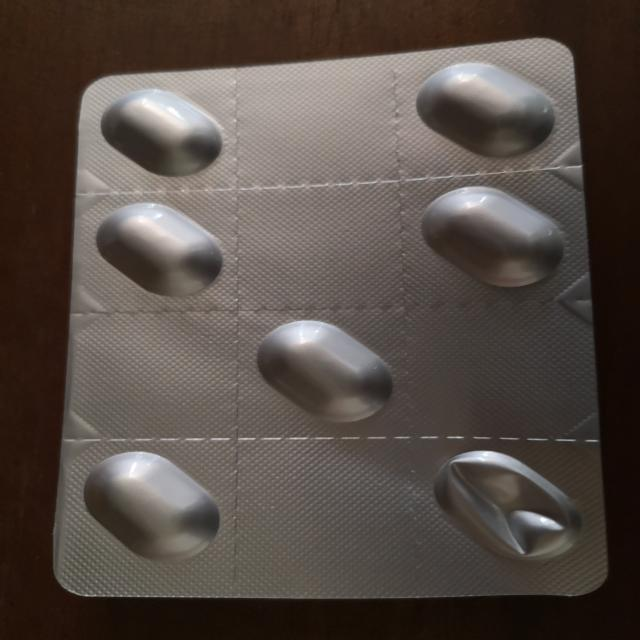Empty: (419, 444, 598, 571)
Pill: (407, 182, 574, 294), (243, 319, 411, 429), (75, 448, 226, 570), (402, 62, 568, 162), (82, 203, 236, 303), (90, 84, 234, 181)
